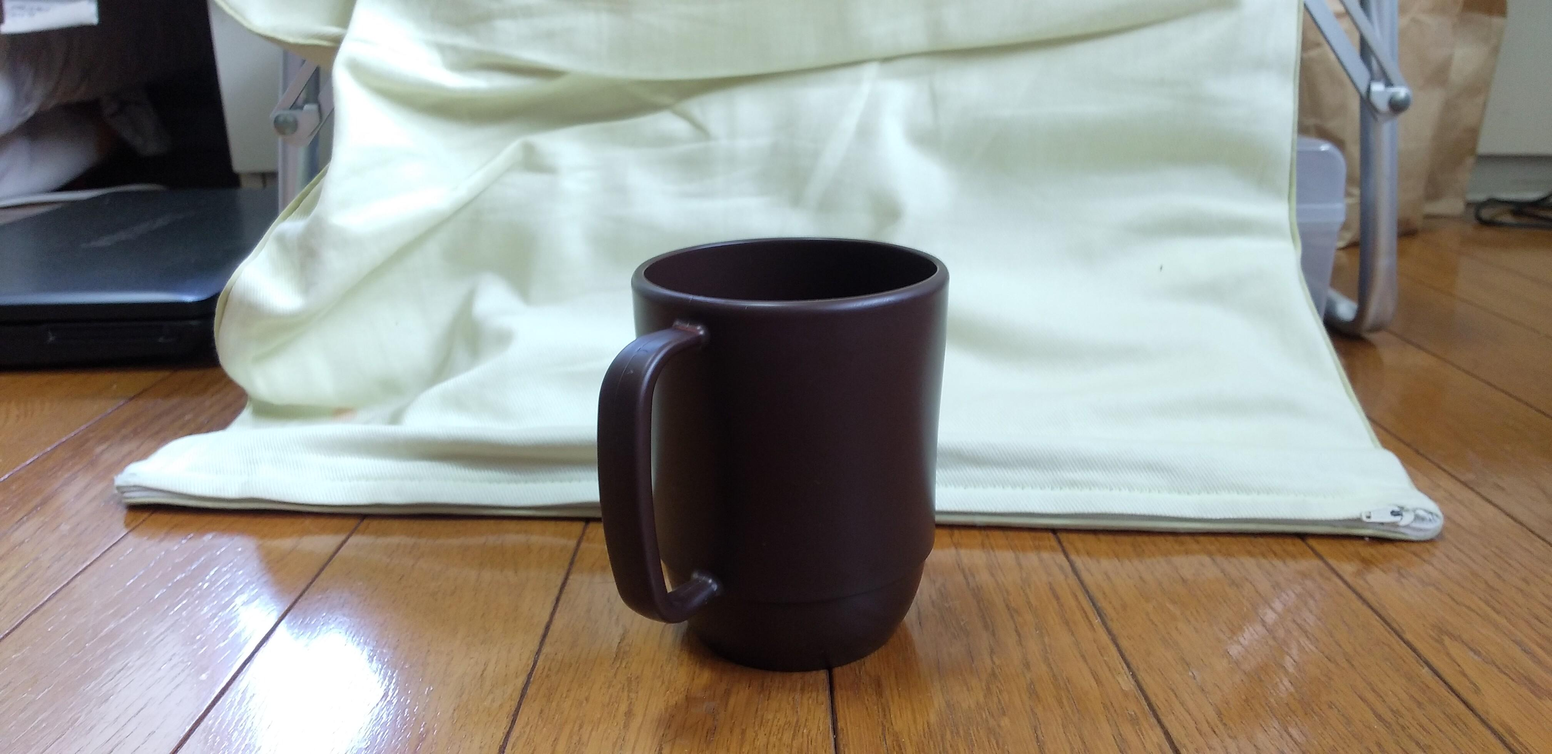mug-real100-3d100: (596, 238, 948, 671)
